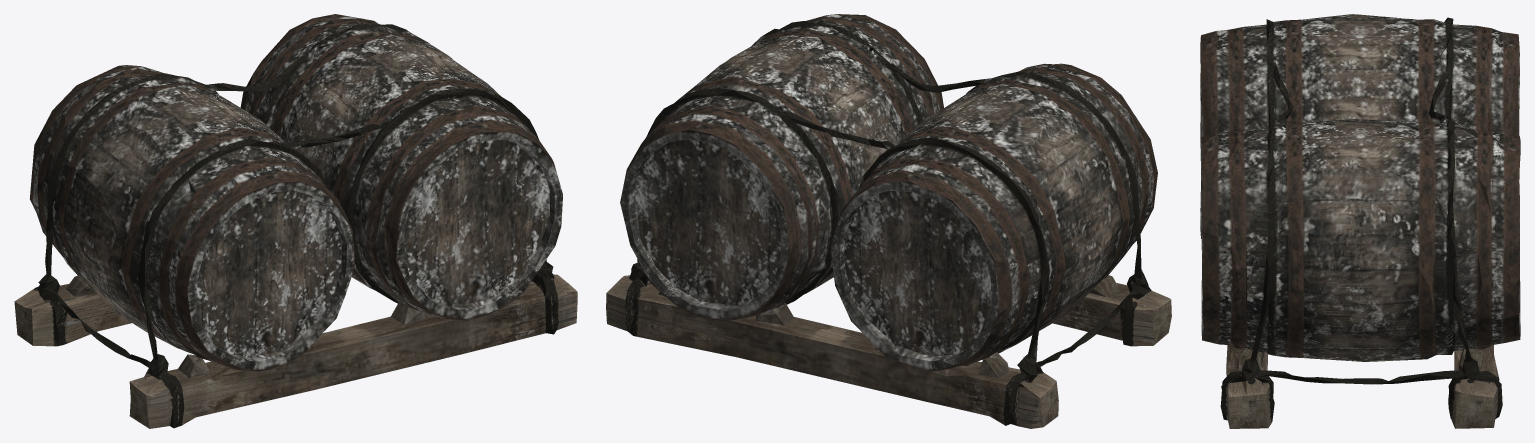
File: lashed_casks.glb
3 views of the same model, side by side, from view 1: azimuth 30°, elevation 25°; view 2: azimuth 150°, elevation 25°; view 3: azimuth 270°, elevation 25° (orthographic).
Visible parts, largest first — view 1: output_unwrapped; view 2: output_unwrapped; view 3: output_unwrapped.
Part boxes in pixels (bbox=[...]): output_unwrapped: bbox=[14, 14, 577, 428]; output_unwrapped: bbox=[606, 14, 1171, 428]; output_unwrapped: bbox=[1200, 14, 1520, 428].
Size of the model in its own units: 1.25 by 0.6845 by 0.7996.
1 material, 1 textured.
